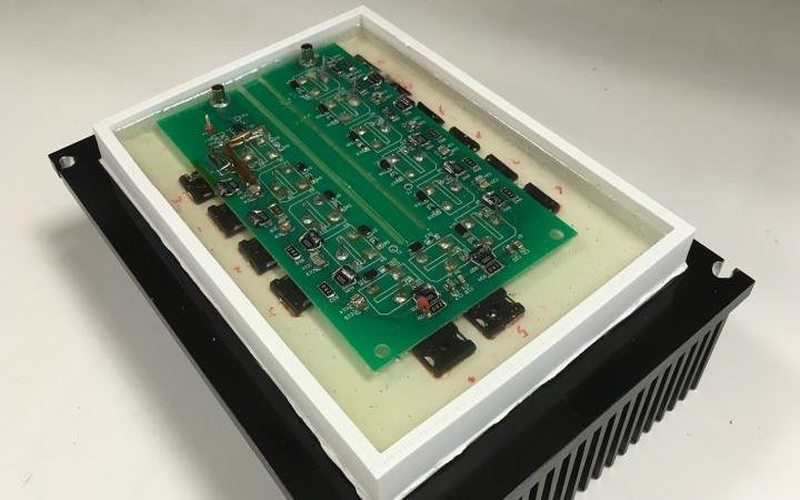Cirtuit-Board: (177, 39, 570, 386)
